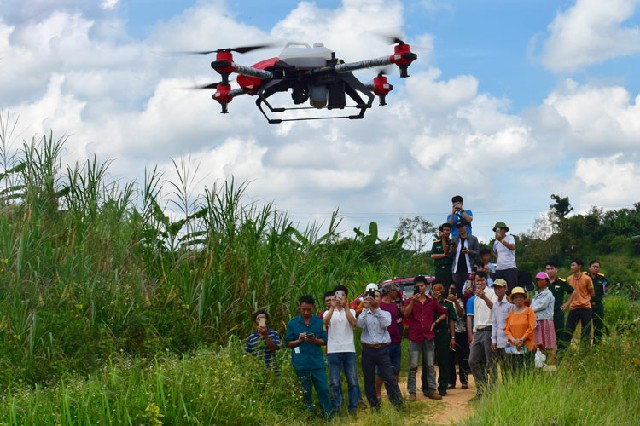maybay_khongnguoilai: (174, 34, 414, 120)
